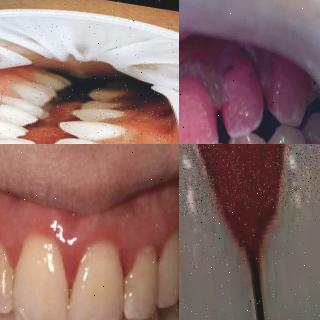Gum Swelling: (179, 144, 320, 230), (0, 225, 143, 288)
maligned: (0, 109, 20, 143), (56, 136, 108, 144), (0, 134, 36, 143)
plaque: (215, 59, 262, 133), (268, 57, 310, 119), (179, 80, 219, 144)
